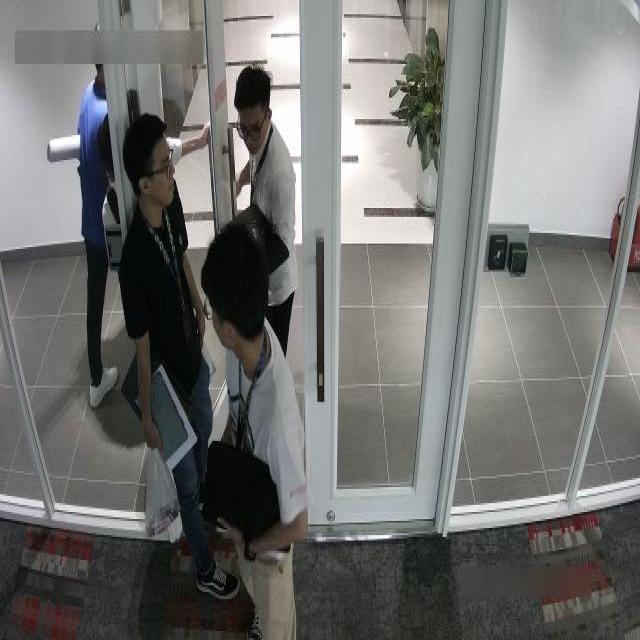bare_hand: (210, 512, 256, 571), (138, 398, 174, 466)
